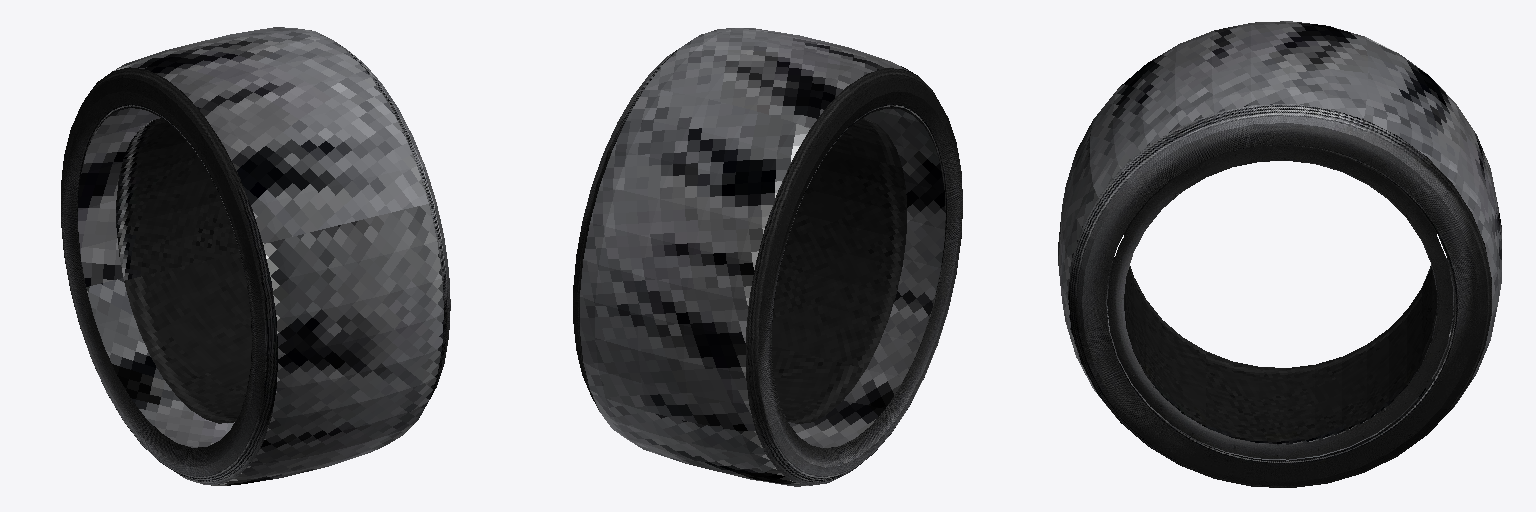
3 renders of one model, left to right at view 1: azimuth 30°, elevation 25°; view 2: azimuth 150°, elevation 25°; view 3: azimuth 270°, elevation 25°, orthographic.
Parts seen in each view (by area): view 1: Llanta4_Carro; view 2: Llanta4_Carro; view 3: Llanta4_Carro.
Boxes of the visible parts, <box> form: Llanta4_Carro: <box>61,27,450,485</box>; Llanta4_Carro: <box>573,28,962,486</box>; Llanta4_Carro: <box>1058,21,1501,487</box>.
Bounding box in the file's own units: 11.16 × 22.38 × 22.36.
Materials: 1 (1 with a texture image).